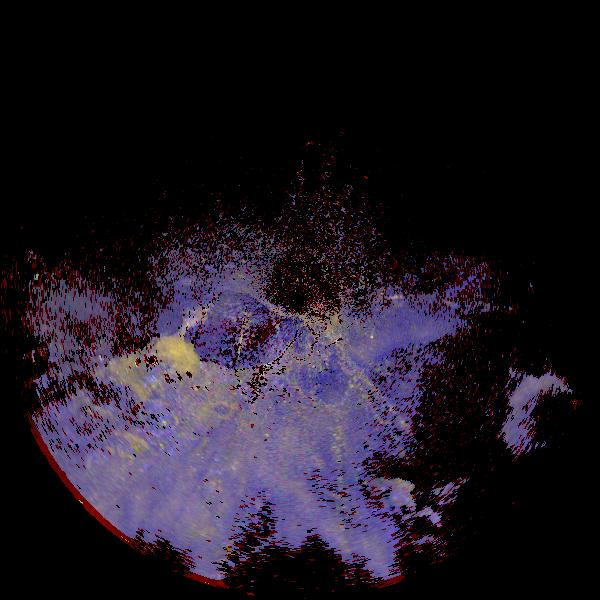roost: (119, 309, 221, 411)
